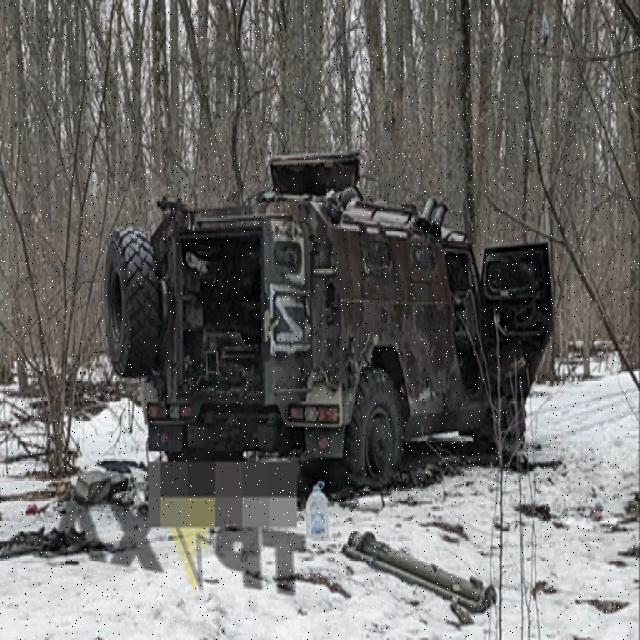CAR: (142, 176, 558, 500)
